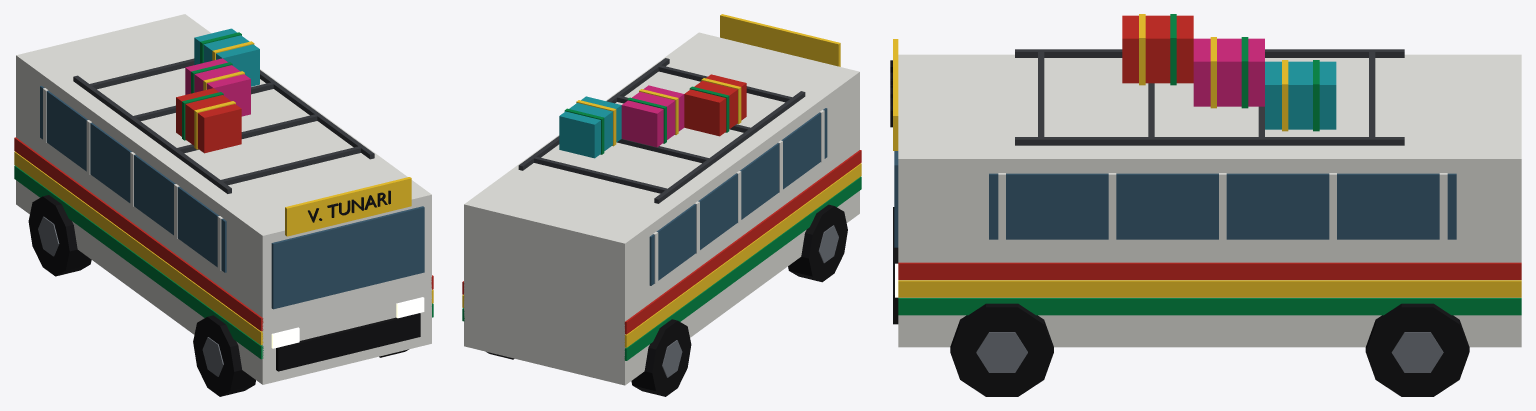
File: Trufi.fbx
3 renders of one model, left to right at view 1: azimuth 30°, elevation 25°; view 2: azimuth 150°, elevation 25°; view 3: azimuth 270°, elevation 25°, orthographic. The views are drawn at different scales.
Parts seen in each view (by area): view 1: Trufi; view 2: Trufi; view 3: Trufi.
Part boxes in pixels (x1,y1,x2,y2): Trufi: (14, 14, 433, 396); Trufi: (462, 14, 861, 396); Trufi: (890, 14, 1521, 396).
Bounding box in the file's own units: 2.1 × 2.48 × 4.86.
